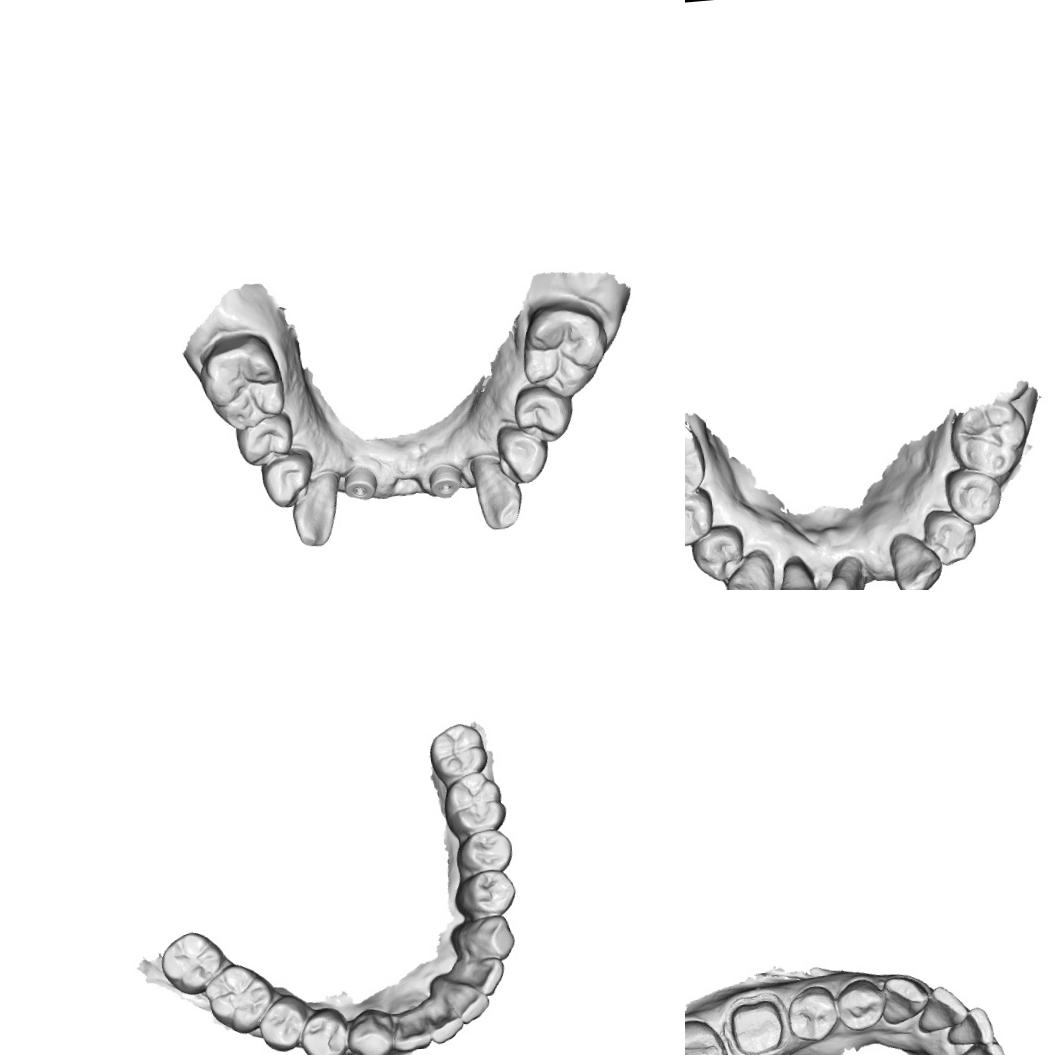canine: (465, 451, 528, 533), (287, 467, 348, 548), (884, 528, 946, 590), (447, 912, 516, 964), (878, 972, 930, 1026), (343, 1004, 395, 1055), (720, 546, 779, 590)
crown: (721, 989, 790, 1055)
implant: (426, 461, 463, 501), (342, 463, 378, 504)
incisor: (914, 983, 969, 1034), (452, 956, 506, 999), (944, 1004, 996, 1047), (423, 994, 465, 1046), (446, 980, 490, 1025), (389, 1007, 432, 1053), (772, 550, 821, 590), (955, 1036, 1011, 1055), (799, 572, 857, 590)
molar: (195, 327, 290, 437), (516, 297, 612, 404), (944, 399, 1030, 484), (202, 960, 276, 1037), (156, 926, 228, 997), (440, 769, 508, 836), (426, 720, 489, 779), (685, 429, 710, 509), (685, 1015, 730, 1055)
premolar: (509, 381, 576, 448), (254, 448, 318, 512), (918, 503, 980, 569), (940, 466, 1004, 529), (687, 522, 747, 588), (229, 412, 294, 472), (491, 422, 548, 488), (450, 867, 518, 918), (784, 983, 840, 1043), (256, 994, 310, 1055), (834, 976, 886, 1034), (452, 827, 514, 874), (297, 1004, 349, 1055), (685, 486, 719, 551)
